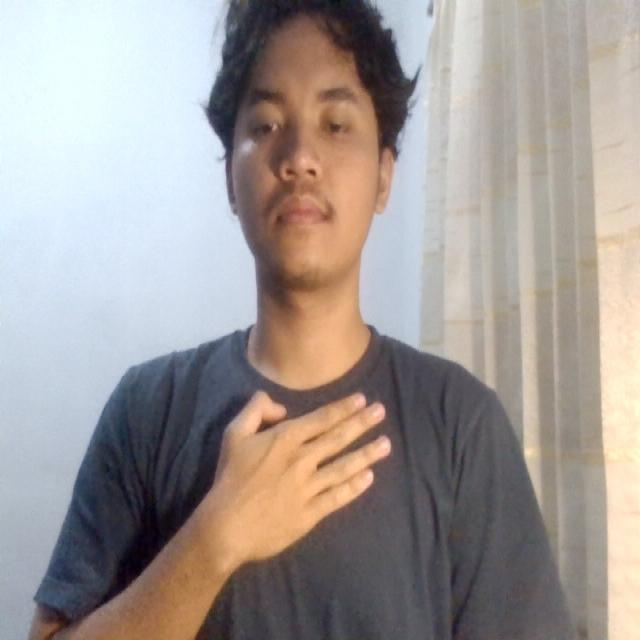Nama: (205, 373, 406, 564)
